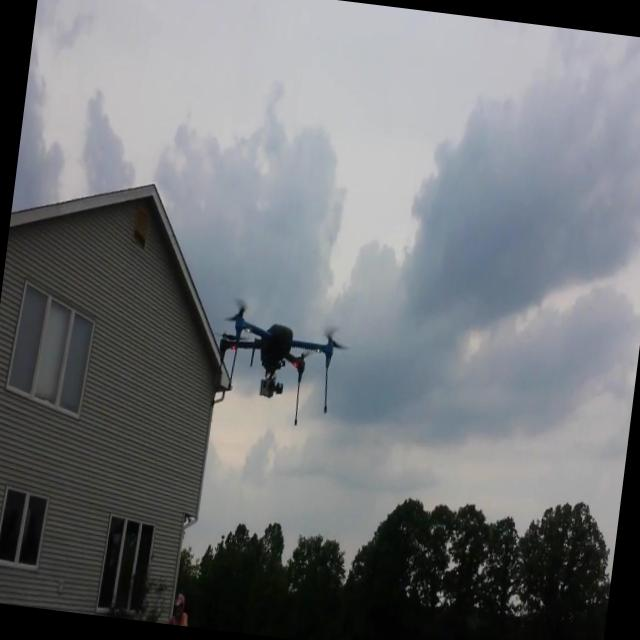drone: (208, 294, 342, 432)
